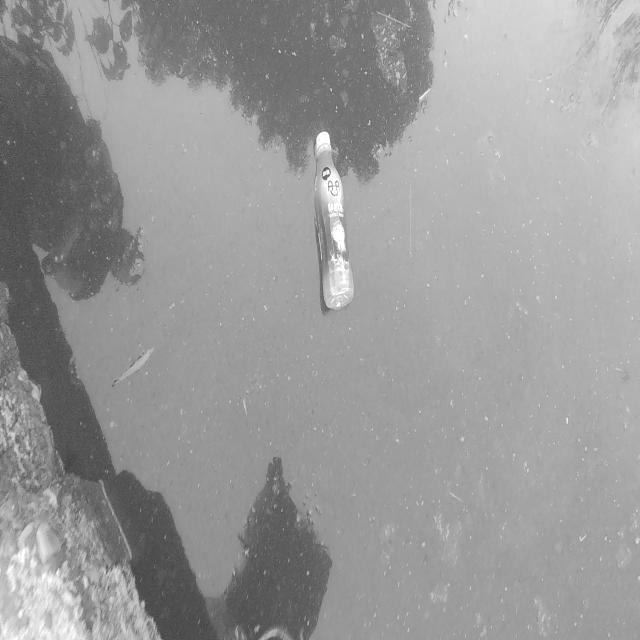bottle: (304, 98, 376, 348)
